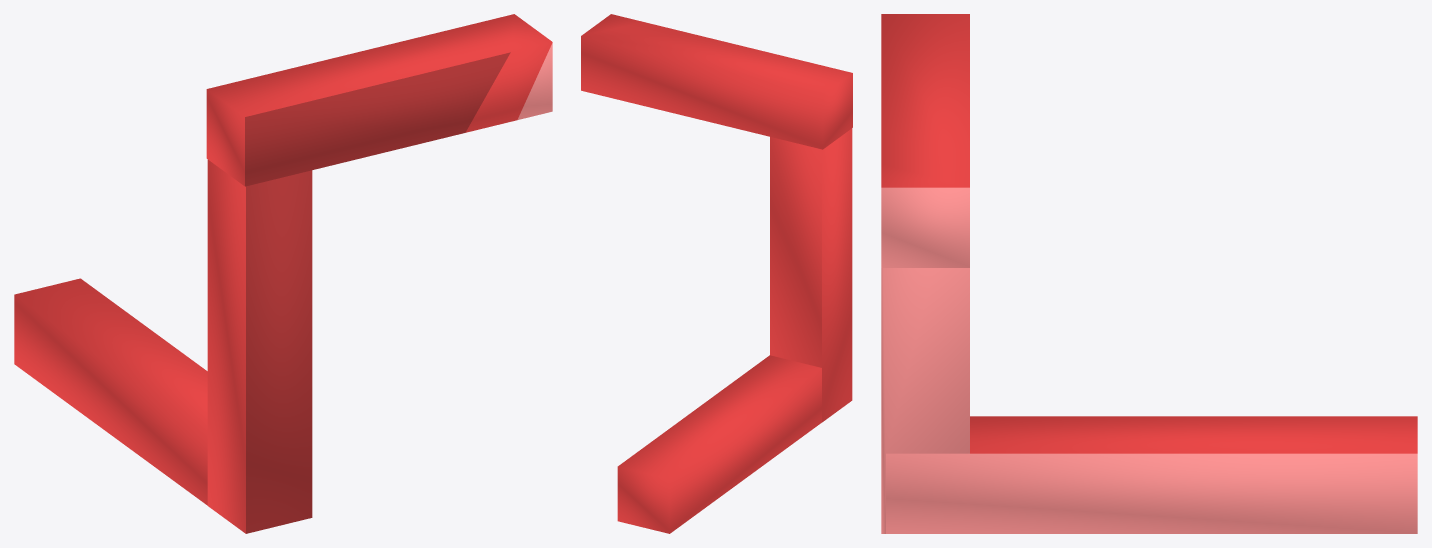
The model's file is treeangle.glb.
3 views of the same model, side by side, from view 1: azimuth 30°, elevation 25°; view 2: azimuth 150°, elevation 25°; view 3: azimuth 270°, elevation 25° (orthographic). The views are drawn at different scales.
Parts seen in each view (by area): view 1: Object_2, Object_3, Object_4; view 2: Object_2; view 3: Object_4, Object_2.
Part boxes in pixels (x1,y1,x2,y2): Object_2: (14, 14, 552, 533); Object_3: (245, 52, 510, 533); Object_4: (517, 43, 552, 119); Object_2: (581, 14, 852, 533); Object_4: (881, 187, 1417, 533); Object_2: (881, 14, 1417, 453).
Size of the model in its own units: 92.66 by 120 by 121.
